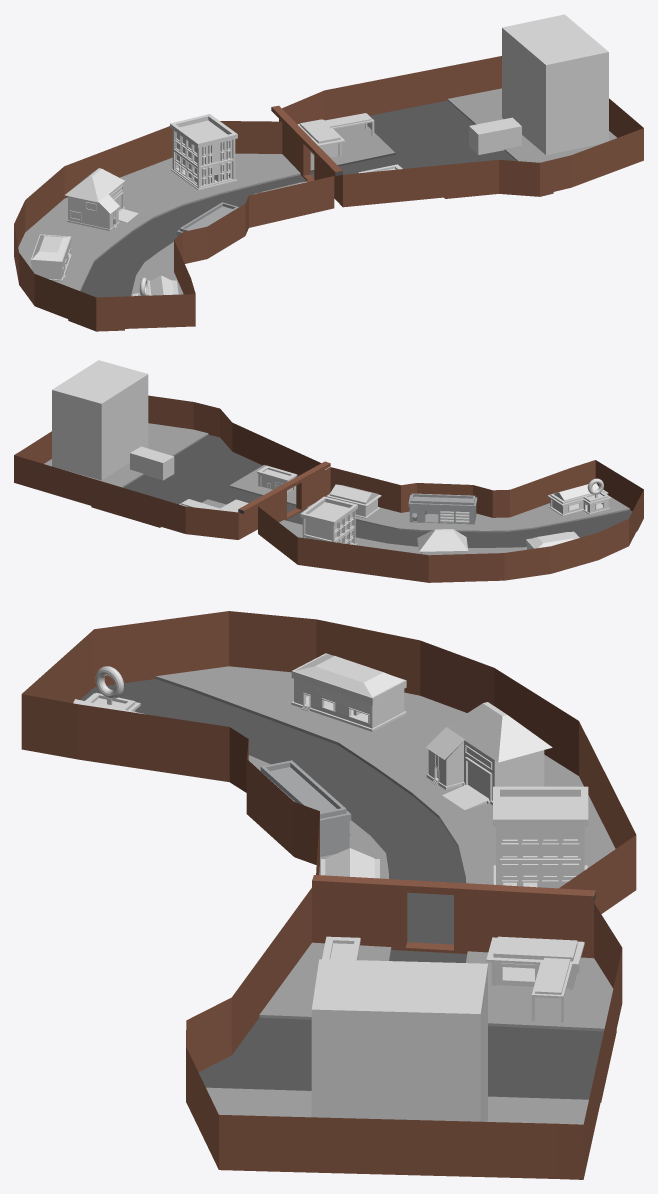
The model's file is FPS_Level2.fbx.
3 renders of one model, top to bottom at view 1: azimuth 30°, elevation 25°; view 2: azimuth 150°, elevation 25°; view 3: azimuth 270°, elevation 25°, orthographic. The views are drawn at different scales.
Parts seen in each view (by area): view 1: Cube, Cube.007, Cube.002, Cube.003, Exterior, Cube.009, Cube.008, Cube.004, Cube.005; view 2: Cube, Cube.007, Cube.002, Cube.004, Cube.005, Cube.003, Cube.009, Cube.006, Cube.001, Exterior, Cube.008; view 3: Cube, Cube.007, Cube.002, Cube.003, Exterior, Cube.008, Cube.004, Cube.006, Cube.001.
Part boxes in pixels (x1,y1,x2,y2): Cube: (14,56,643,331); Cube.007: (502,14,608,155); Cube.002: (170,114,237,190); Cube.003: (65,168,138,230); Exterior: (31,234,71,281); Cube.009: (469,117,521,154); Cube.008: (297,113,374,157); Cube.004: (176,202,238,235); Cube.005: (133,275,178,296); Cube: (14,395,643,582); Cube.007: (52,360,148,480); Cube.002: (300,496,357,545); Cube.004: (408,493,477,524); Cube.005: (547,483,611,516); Cube.003: (417,529,468,555); Cube.009: (130,446,174,480); Cube.006: (326,484,381,518); Cube.001: (257,465,297,493); Exterior: (526,531,579,549); Cube.008: (179,499,248,512); Cube: (21,611,636,1179); Cube.007: (311,959,487,1121); Cube.002: (493,786,588,888); Cube.003: (426,702,552,809); Exterior: (291,653,406,731); Cube.008: (486,936,584,1022); Cube.004: (259,760,351,856); Cube.006: (321,848,379,878); Cube.001: (322,936,360,960).
Bounding box in the file's own units: 30185 × 4298 × 15270.
